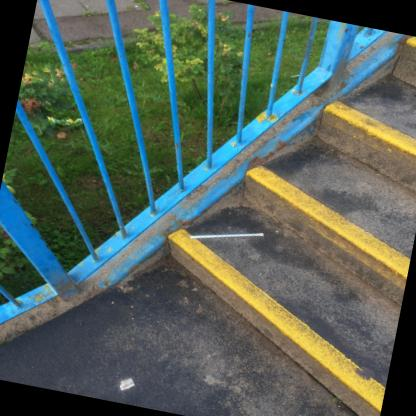Plastic: (189, 233, 263, 238)
Waste: (119, 378, 134, 390)
